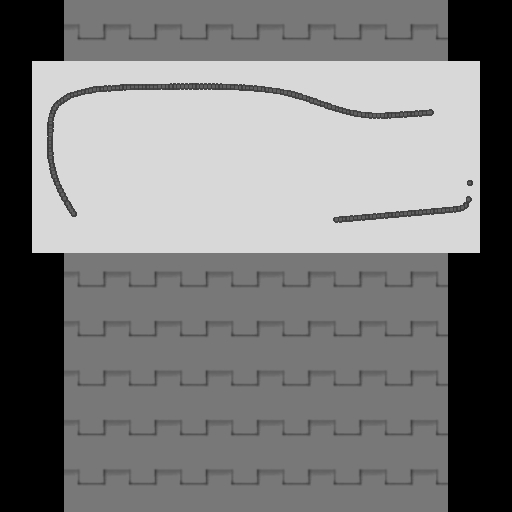Defect: (76, 210, 336, 231)
